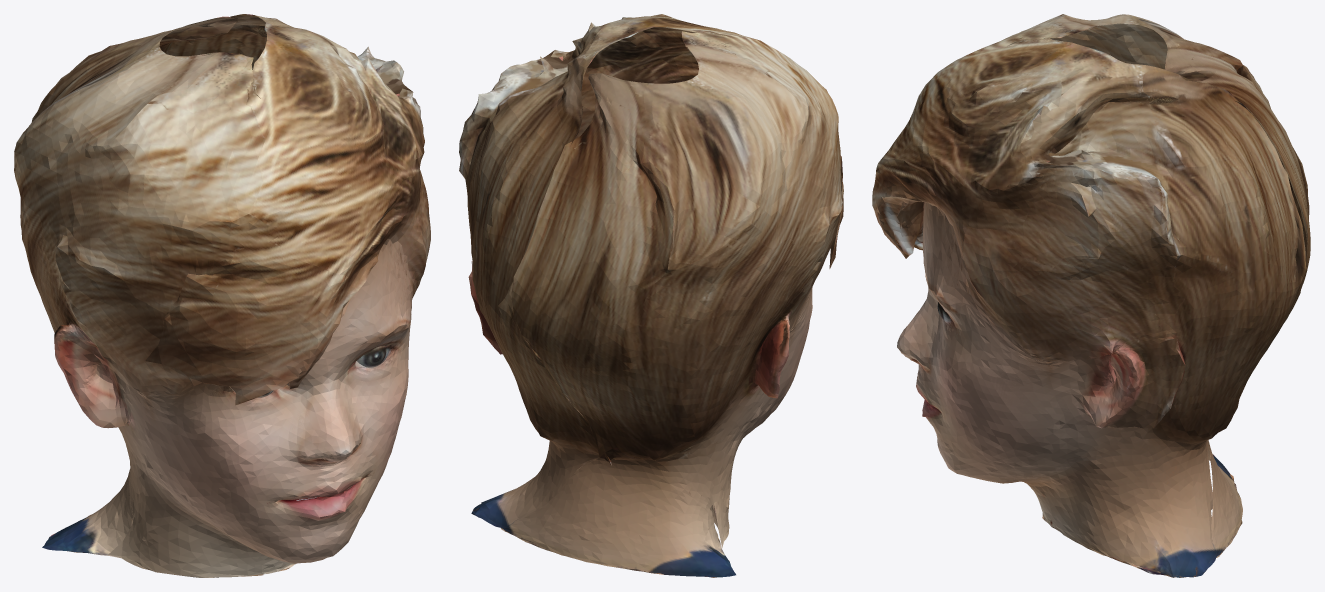
3 views of the same model, side by side, from view 1: azimuth 30°, elevation 25°; view 2: azimuth 150°, elevation 25°; view 3: azimuth 270°, elevation 25° (orthographic). The views are drawn at different scales.
Size of the model in its own units: 1.32 by 1.8 by 1.5.
Materials: 1 (1 with a texture image).
